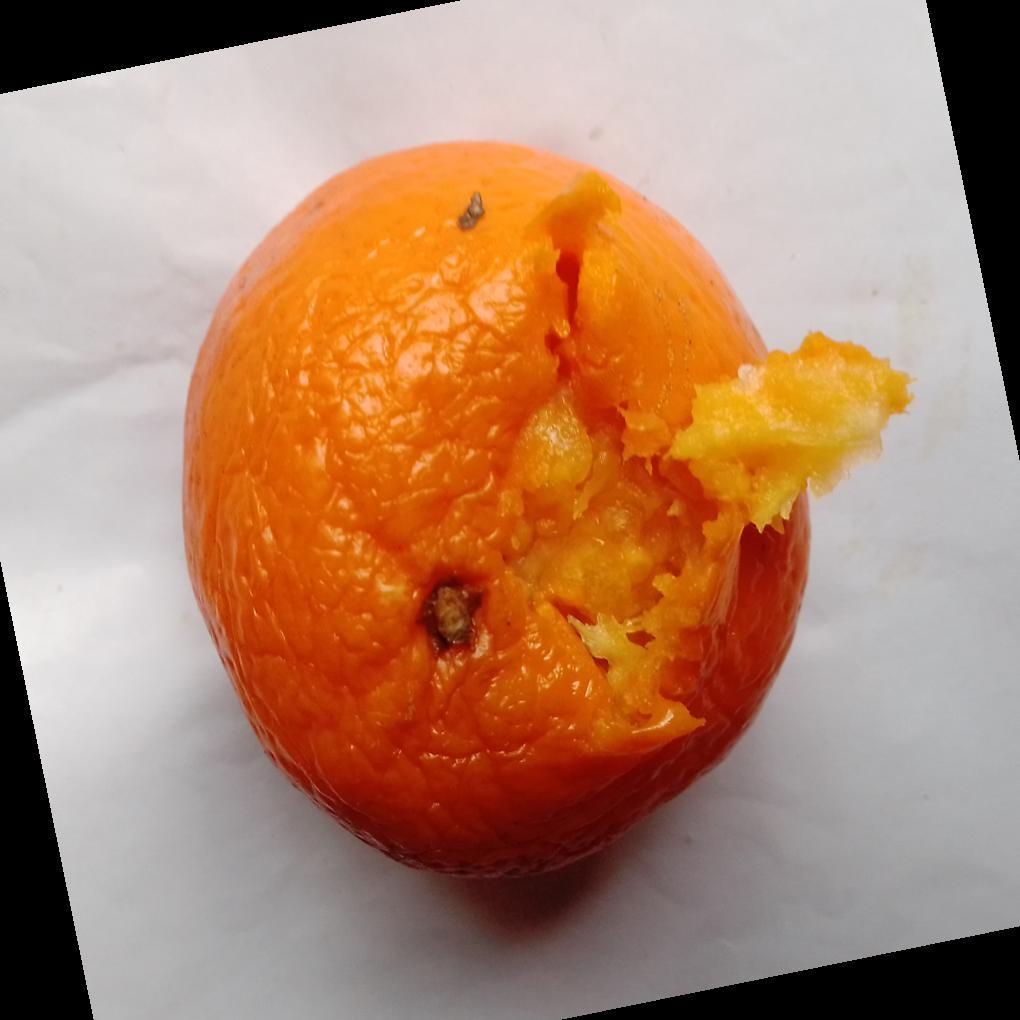FreshOrange: (180, 142, 912, 881)
